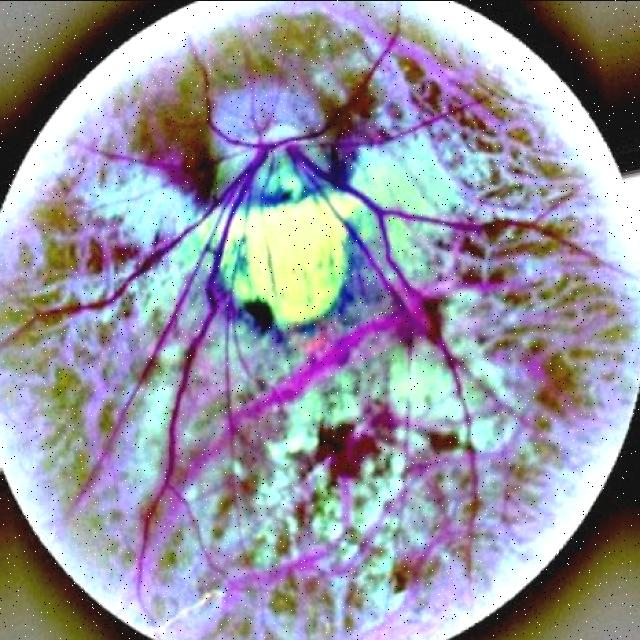Macula: (314, 404, 395, 471)
Nerves: (282, 153, 487, 362), (73, 159, 251, 308), (258, 9, 409, 162)
Optic Disk: (216, 82, 334, 218)
